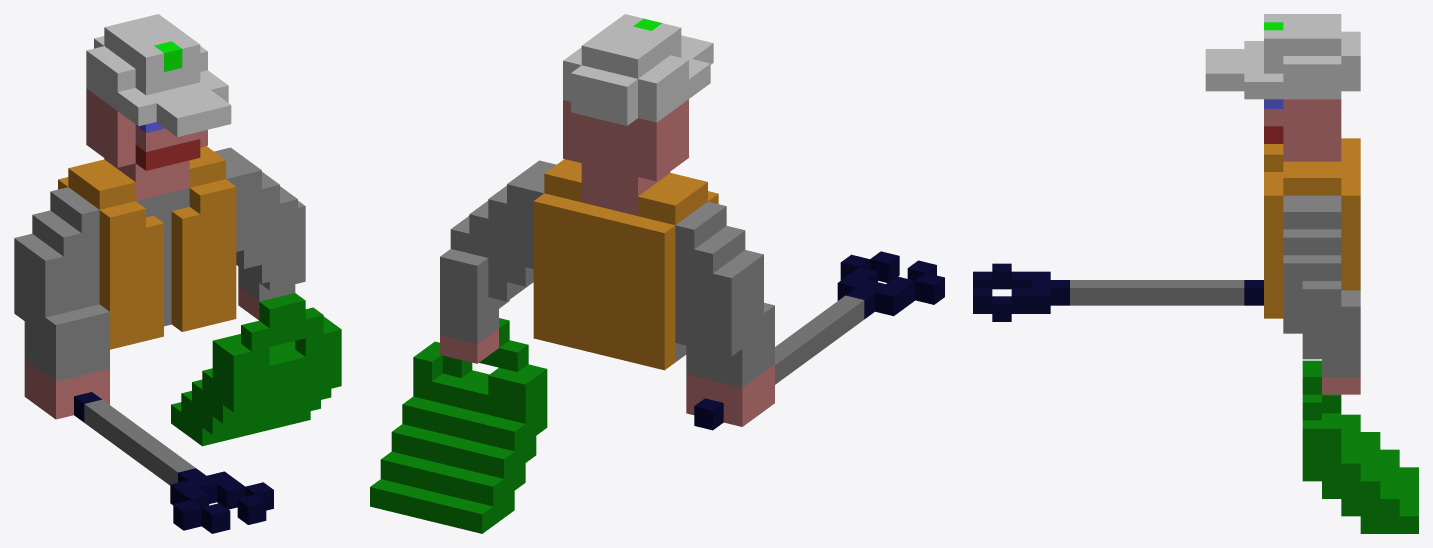
File: Typ pfand Torso walk 1.obj
3 views of the same model, side by side, from view 1: azimuth 30°, elevation 25°; view 2: azimuth 150°, elevation 25°; view 3: azimuth 270°, elevation 25° (orthographic). The views are drawn at different scales.
Bounding box in the file's own units: 1.8 × 2.4 × 2.3.
1 material, 1 textured.
